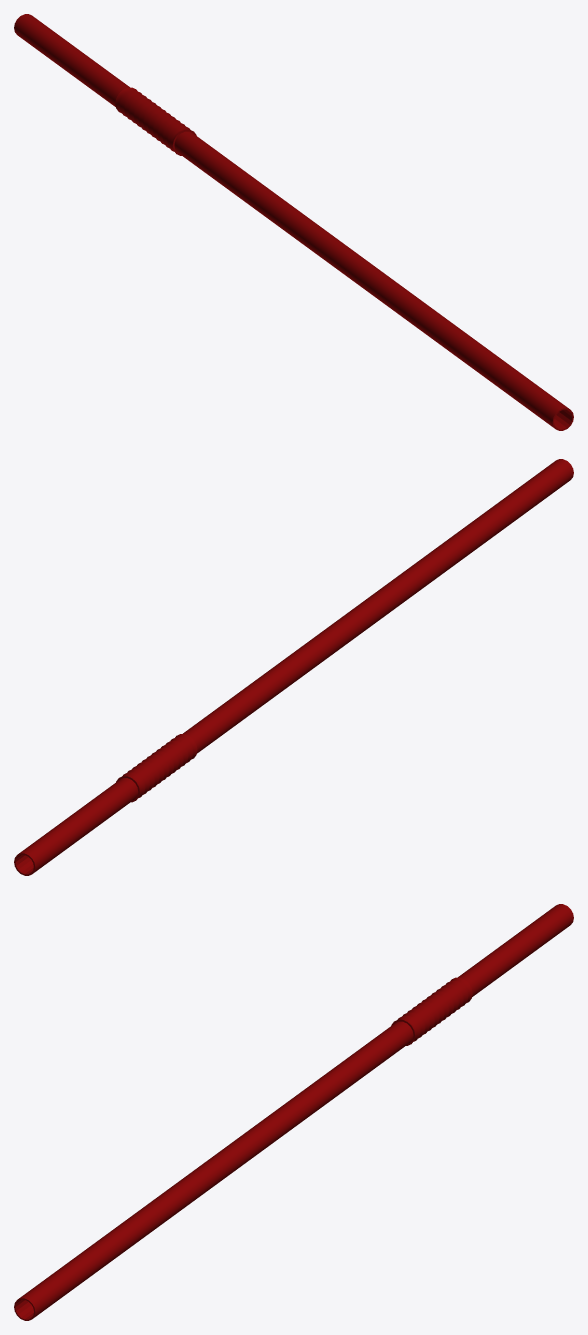
File: Straw.fbx
3 views of the same model, one above another, from view 1: azimuth 30°, elevation 25°; view 2: azimuth 150°, elevation 25°; view 3: azimuth 330°, elevation 25° (orthographic).
Parts seen in each view (by area): view 1: Straw; view 2: Straw; view 3: Straw.
Part boxes in pixels (x1,y1,x2,y2): Straw: (14, 14, 573, 430); Straw: (14, 459, 573, 875); Straw: (14, 904, 573, 1320).
Bounding box in the file's own units: 0.0336 × 0.0336 × 1.26.
1 material, 1 textured.
